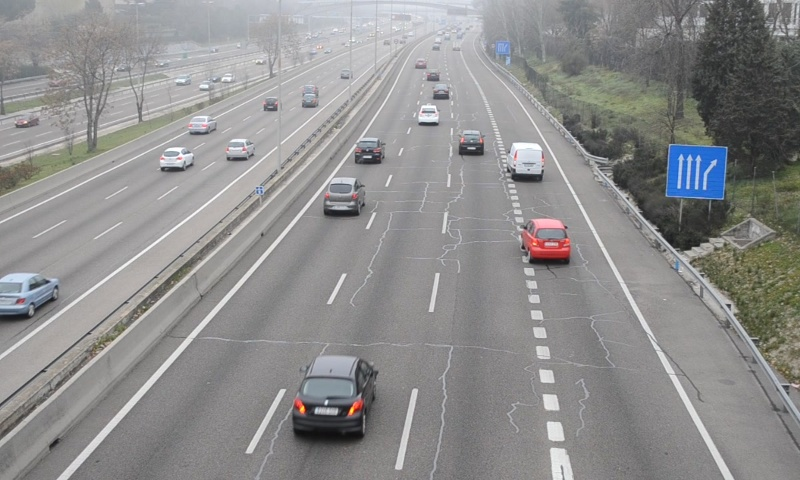car: (290, 356, 376, 437), (520, 218, 572, 260), (323, 178, 364, 213), (352, 138, 385, 165), (458, 130, 485, 156), (416, 102, 440, 125), (433, 82, 450, 99)
van: (506, 142, 546, 182)
